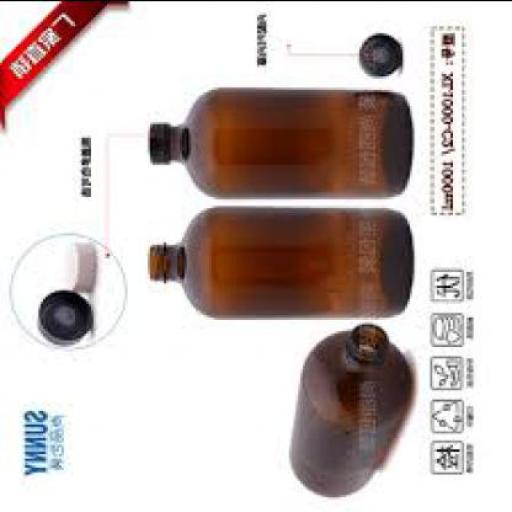glass: (148, 200, 414, 312), (168, 84, 412, 195), (290, 321, 408, 494)
plastic: (32, 290, 89, 344), (355, 30, 398, 75), (64, 237, 94, 289)
